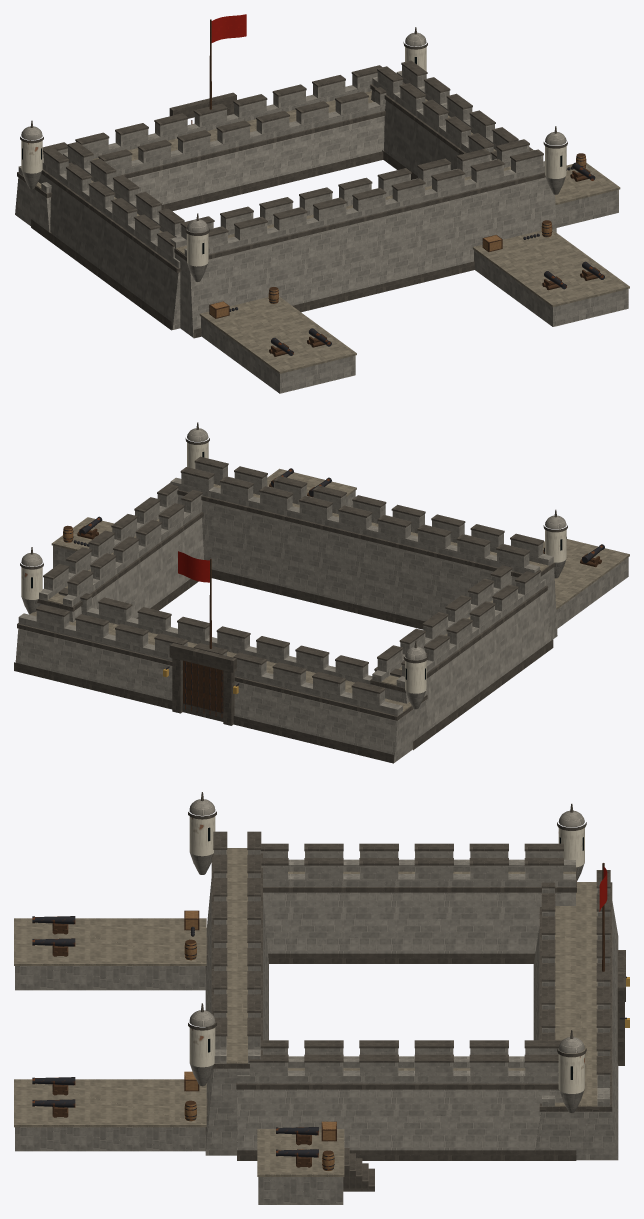
File: SM_Art_WarCurrentHarbor.gltf
3 renders of one model, top to bottom at view 1: azimuth 30°, elevation 25°; view 2: azimuth 150°, elevation 25°; view 3: azimuth 270°, elevation 25°, orthographic. The views are drawn at different scales.
Parts seen in each view (by area): view 1: SM_Art_WarCurrentHarbor; view 2: SM_Art_WarCurrentHarbor; view 3: SM_Art_WarCurrentHarbor.
Part boxes in pixels (x1,y1,x2,y2): SM_Art_WarCurrentHarbor: [15, 14, 629, 393]; SM_Art_WarCurrentHarbor: [14, 422, 629, 763]; SM_Art_WarCurrentHarbor: [14, 792, 629, 1204].
Size of the model in its own units: 30.88 by 9.65 by 29.1.
10 materials, 8 textured.
